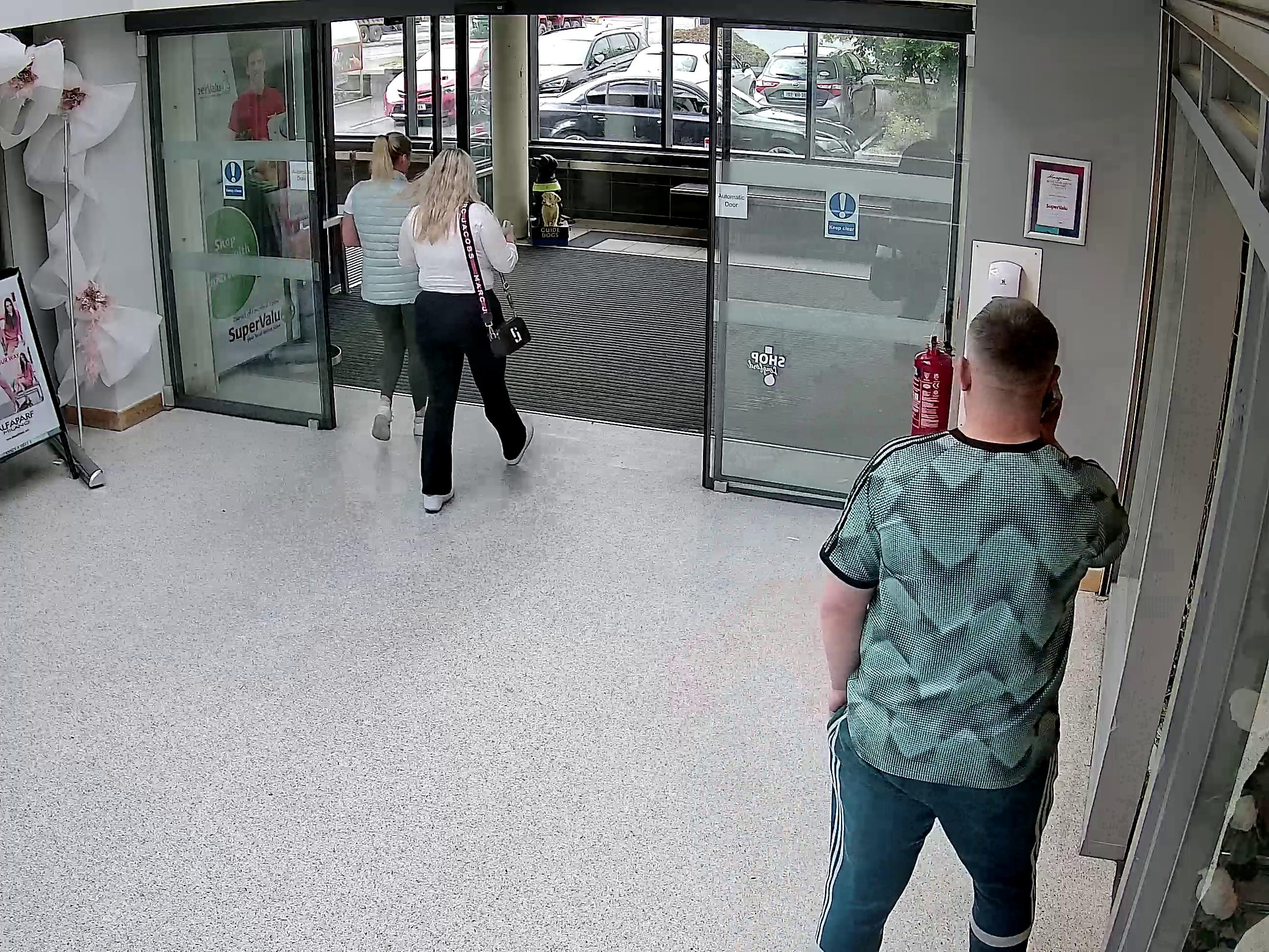backpack-or-handbag: (488, 312, 532, 356)
person: (398, 148, 534, 514)
person-with-backpack-handbag: (397, 147, 535, 514)
